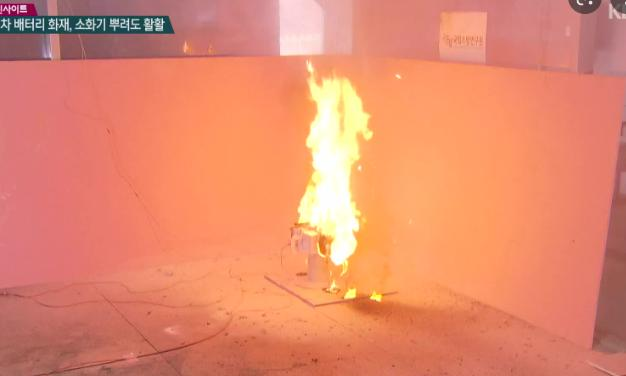fire: (297, 59, 372, 266)
